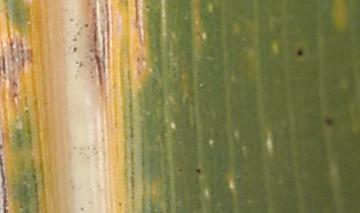tarspot: (322, 114, 339, 130), (190, 164, 207, 179), (293, 43, 307, 61)
